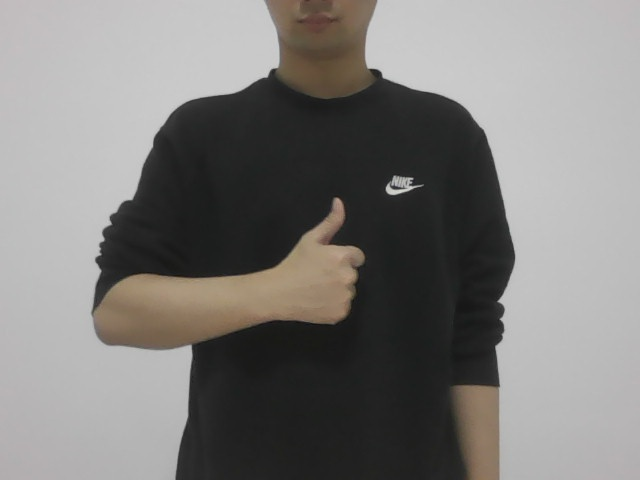good: (266, 190, 374, 330)
